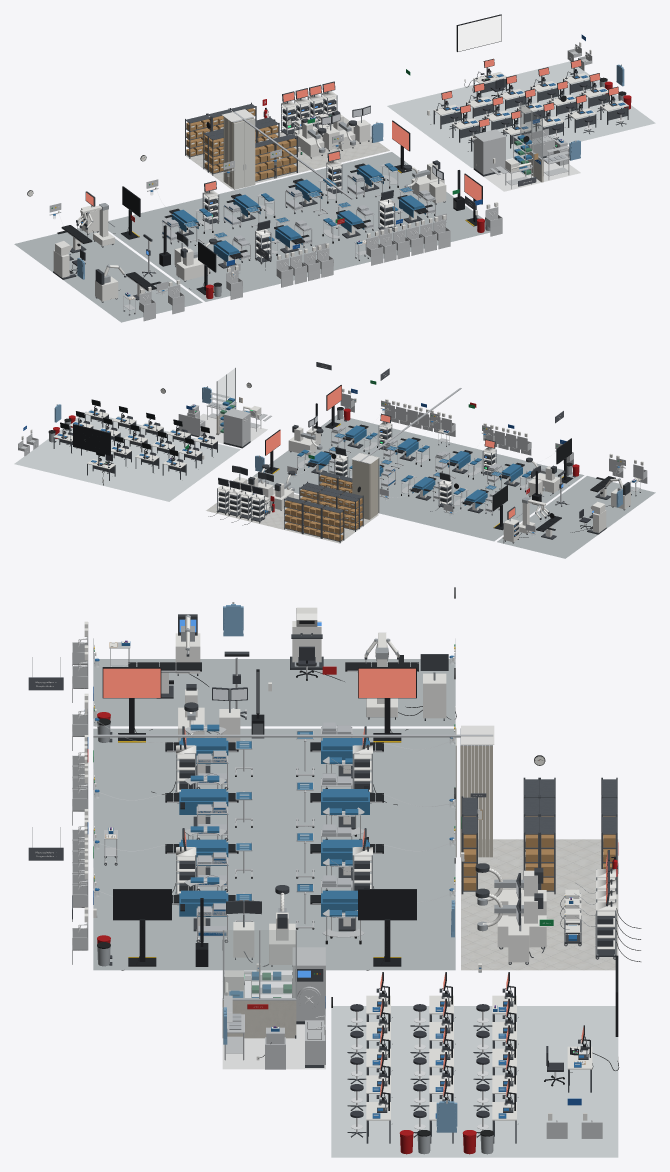
The model's file is 02_n1_bloque_quirurgico.glb.
3 renders of one model, top to bottom at view 1: azimuth 30°, elevation 25°; view 2: azimuth 150°, elevation 25°; view 3: azimuth 270°, elevation 25°, orthographic. The views are drawn at different scales.
Parts seen in each view (by area): view 1: piso · Macro quirófano · 8 mesas · h libre 3.60 m, piso · Sala de microcirugía · 16 estaciones, estacion_micro_digital (×13), puesto_quirurgico (×8), piso · Sala de cirugía robótica, arco_en_c (×4), torre_laparoscopia (×6), anaquel_rotulado (×4), pantalla_pedestal_75 (×4), piso · Bodega de material quirúrgico e insumos, puerta del nicho del muro móvil, autoclave (+13 smaller); view 2: piso · Macro quirófano · 8 mesas · h libre 3.60 m, piso · Sala de microcirugía · 16 estaciones, piso · Sala de cirugía robótica, puesto_quirurgico (×7), anaquel_rotulado (×7), torre_laparoscopia (×8), arco_en_c (×4), pantalla_pedestal_75 (×4), estacion_micro_digital (×4), muro móvil abierto (paneles guardados en el nicho), autoclave, piso · Bodega de material quirúrgico e insumos (+9 smaller); view 3: piso · Macro quirófano · 8 mesas · h libre 3.60 m, piso · Sala de microcirugía · 16 estaciones, piso · Sala de cirugía robótica, puesto_quirurgico (×8), estacion_micro_digital (×14), piso · Bodega de material quirúrgico e insumos, pantalla_pedestal_75 (×4), arco_en_c (×4), media pared 1.20 con mampara de vidrio, torre_laparoscopia (×5), anaquel_rotulado (×4), muro móvil abierto (paneles guardados en el nicho) (+12 smaller).
Boxes of the visible parts, x1,y1,x2,y2 form: piso · Macro quirófano · 8 mesas · h libre 3.60 m: [108, 152, 490, 301]; piso · Sala de microcirugía · 16 estaciones: [387, 61, 655, 167]; estacion_micro_digital (×13): [433, 59, 628, 142]; puesto_quirurgico (×8): [164, 163, 432, 273]; piso · Sala de cirugía robótica: [14, 228, 202, 322]; arco_en_c (×4): [174, 105, 446, 281]; torre_laparoscopia (×6): [202, 84, 394, 264]; anaquel_rotulado (×4): [185, 113, 297, 181]; pantalla_pedestal_75 (×4): [121, 120, 482, 294]; piso · Bodega de material quirúrgico e insumos: [186, 117, 389, 189]; puerta del nicho del muro móvil: [233, 118, 255, 189]; autoclave: [471, 129, 505, 176]; piso · Macro quirófano · 8 mesas · h libre 3.60 m: [247, 415, 584, 541]; piso · Sala de microcirugía · 16 estaciones: [14, 411, 240, 501]; piso · Sala de cirugía robótica: [497, 476, 655, 558]; puesto_quirurgico (×7): [297, 424, 531, 513]; anaquel_rotulado (×7): [284, 470, 359, 543]; torre_laparoscopia (×8): [216, 413, 496, 523]; arco_en_c (×4): [232, 415, 560, 510]; pantalla_pedestal_75 (×4): [264, 385, 573, 530]; estacion_micro_digital (×4): [135, 426, 218, 479]; muro móvil abierto (paneles guardados en el nicho): [352, 459, 377, 519]; autoclave: [223, 408, 250, 448]; piso · Bodega de material quirúrgico e insumos: [206, 482, 378, 543]; piso · Macro quirófano · 8 mesas · h libre 3.60 m: [93, 728, 455, 970]; piso · Sala de microcirugía · 16 estaciones: [331, 1006, 618, 1157]; piso · Sala de cirugía robótica: [93, 659, 455, 726]; puesto_quirurgico (×8): [165, 724, 383, 944]; estacion_micro_digital (×14): [347, 972, 516, 1143]; piso · Bodega de material quirúrgico e insumos: [461, 839, 618, 970]; pantalla_pedestal_75 (×4): [102, 667, 416, 966]; arco_en_c (×4): [178, 684, 546, 966]; media pared 1.20 con mampara de vidrio: [222, 929, 296, 1038]; torre_laparoscopia (×5): [175, 726, 616, 959]; anaquel_rotulado (×4): [461, 814, 617, 894]; muro móvil abierto (paneles guardados en el nicho): [460, 728, 492, 857].
Bounding box in the file's own units: 33.7 × 3.69 × 17.5.
58 materials, 3 textured.
